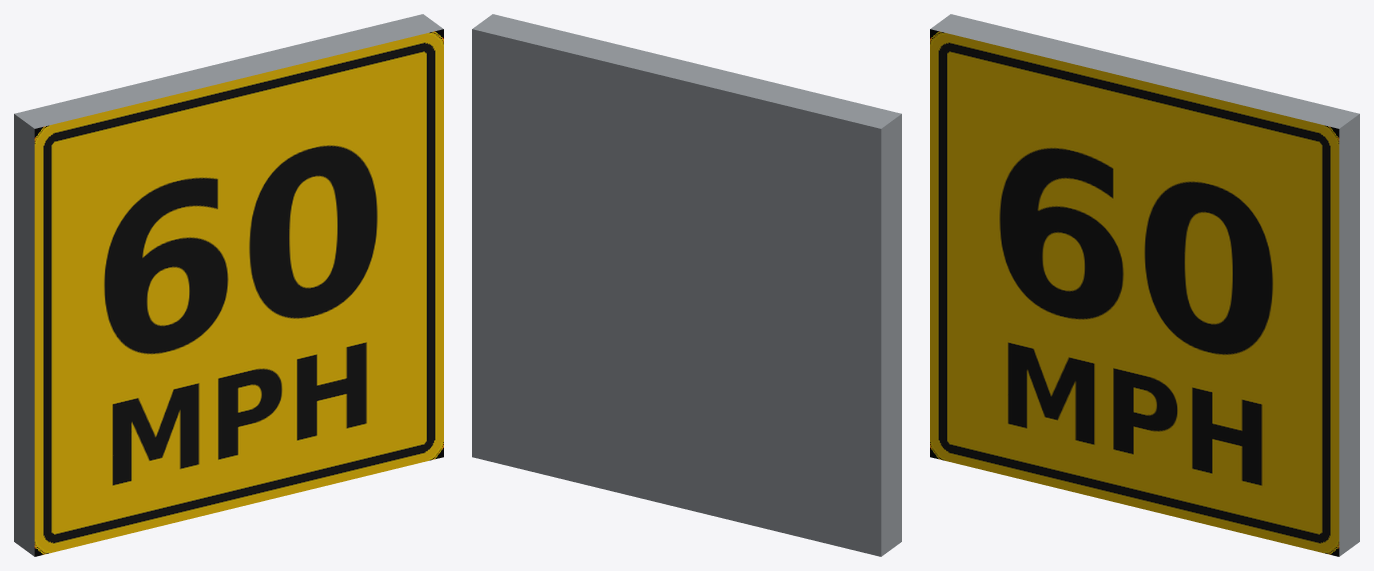
File: us_advisory60.dae
3 renders of one model, left to right at view 1: azimuth 30°, elevation 25°; view 2: azimuth 150°, elevation 25°; view 3: azimuth 330°, elevation 25°, orthographic.
Parts seen in each view (by area): view 1: sign4, Colmesh-1; view 2: Colmesh-1; view 3: sign4, Colmesh-1.
Part boxes in pixels (x1,y1,x2,y2): sign4: (34,29,443,556); Colmesh-1: (14,14,443,556); Colmesh-1: (472,14,901,556); sign4: (930,29,1339,556); Colmesh-1: (930,14,1359,556).
Bounding box in the file's own units: 0.4572 × 0.04 × 0.4572.
2 materials, 1 textured.
